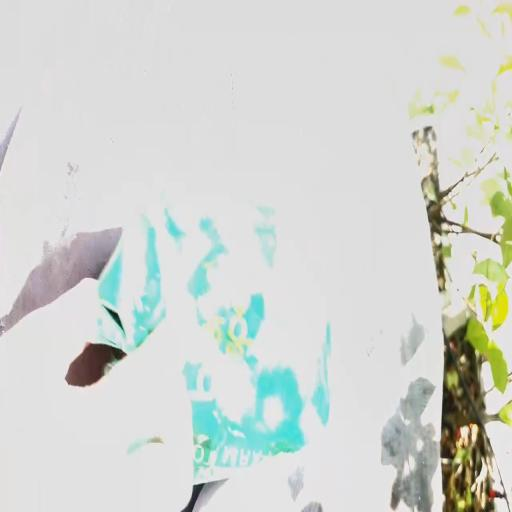cafe_xay: (96, 185, 331, 481)
